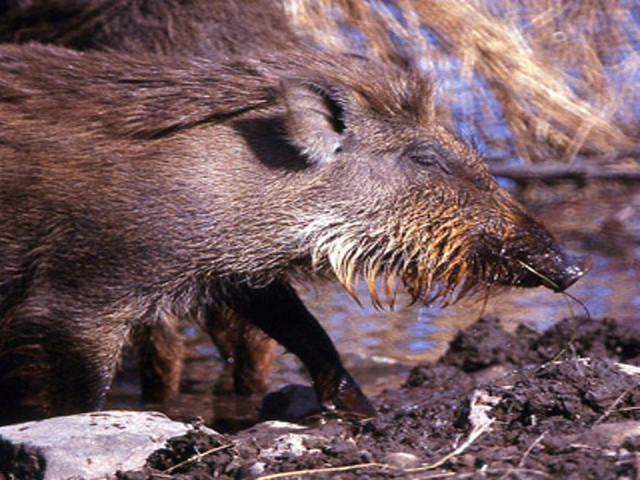Pig: (1, 1, 615, 379)
